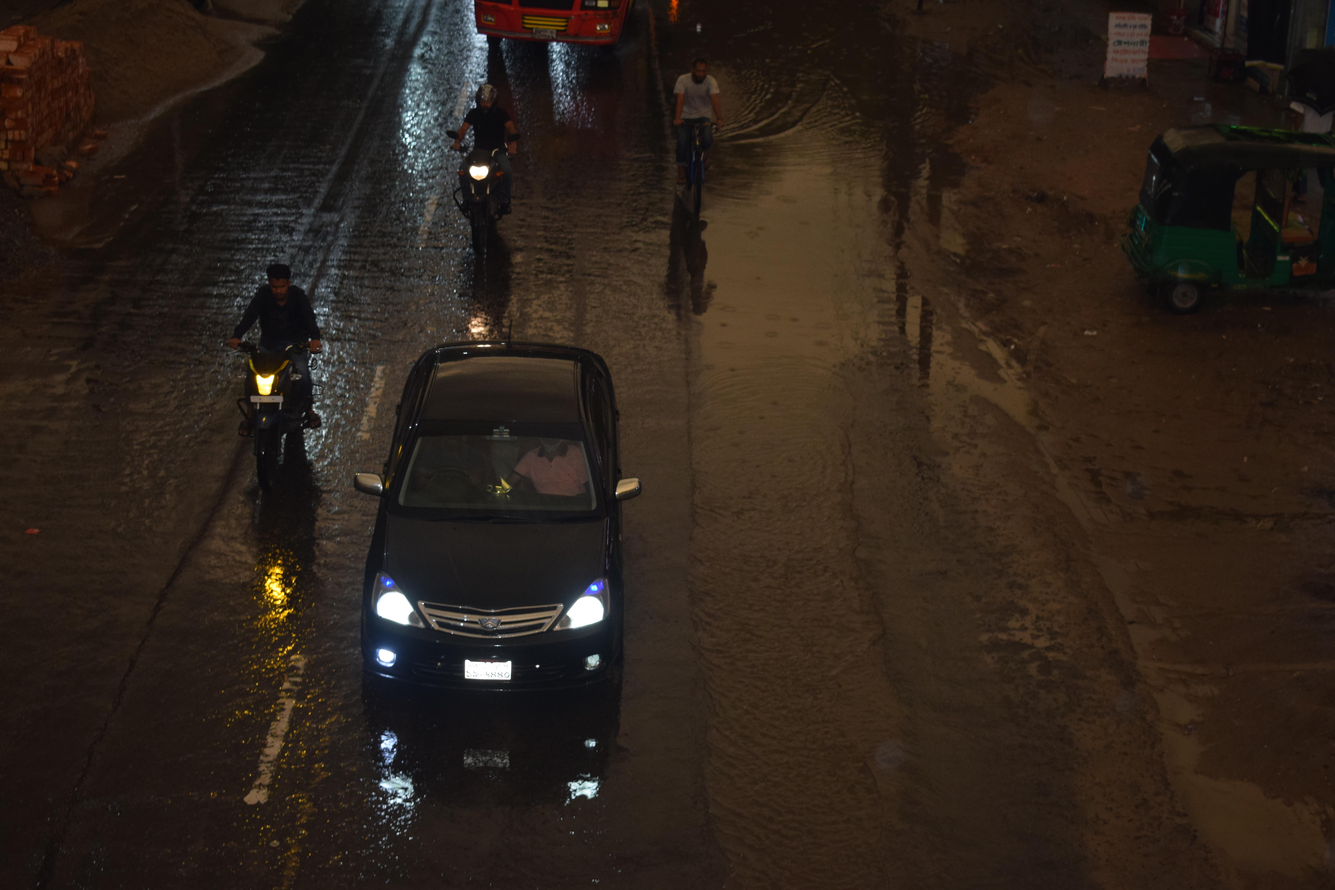Bike: (193, 231, 350, 541), (421, 57, 556, 266)
Car: (320, 312, 674, 775)
